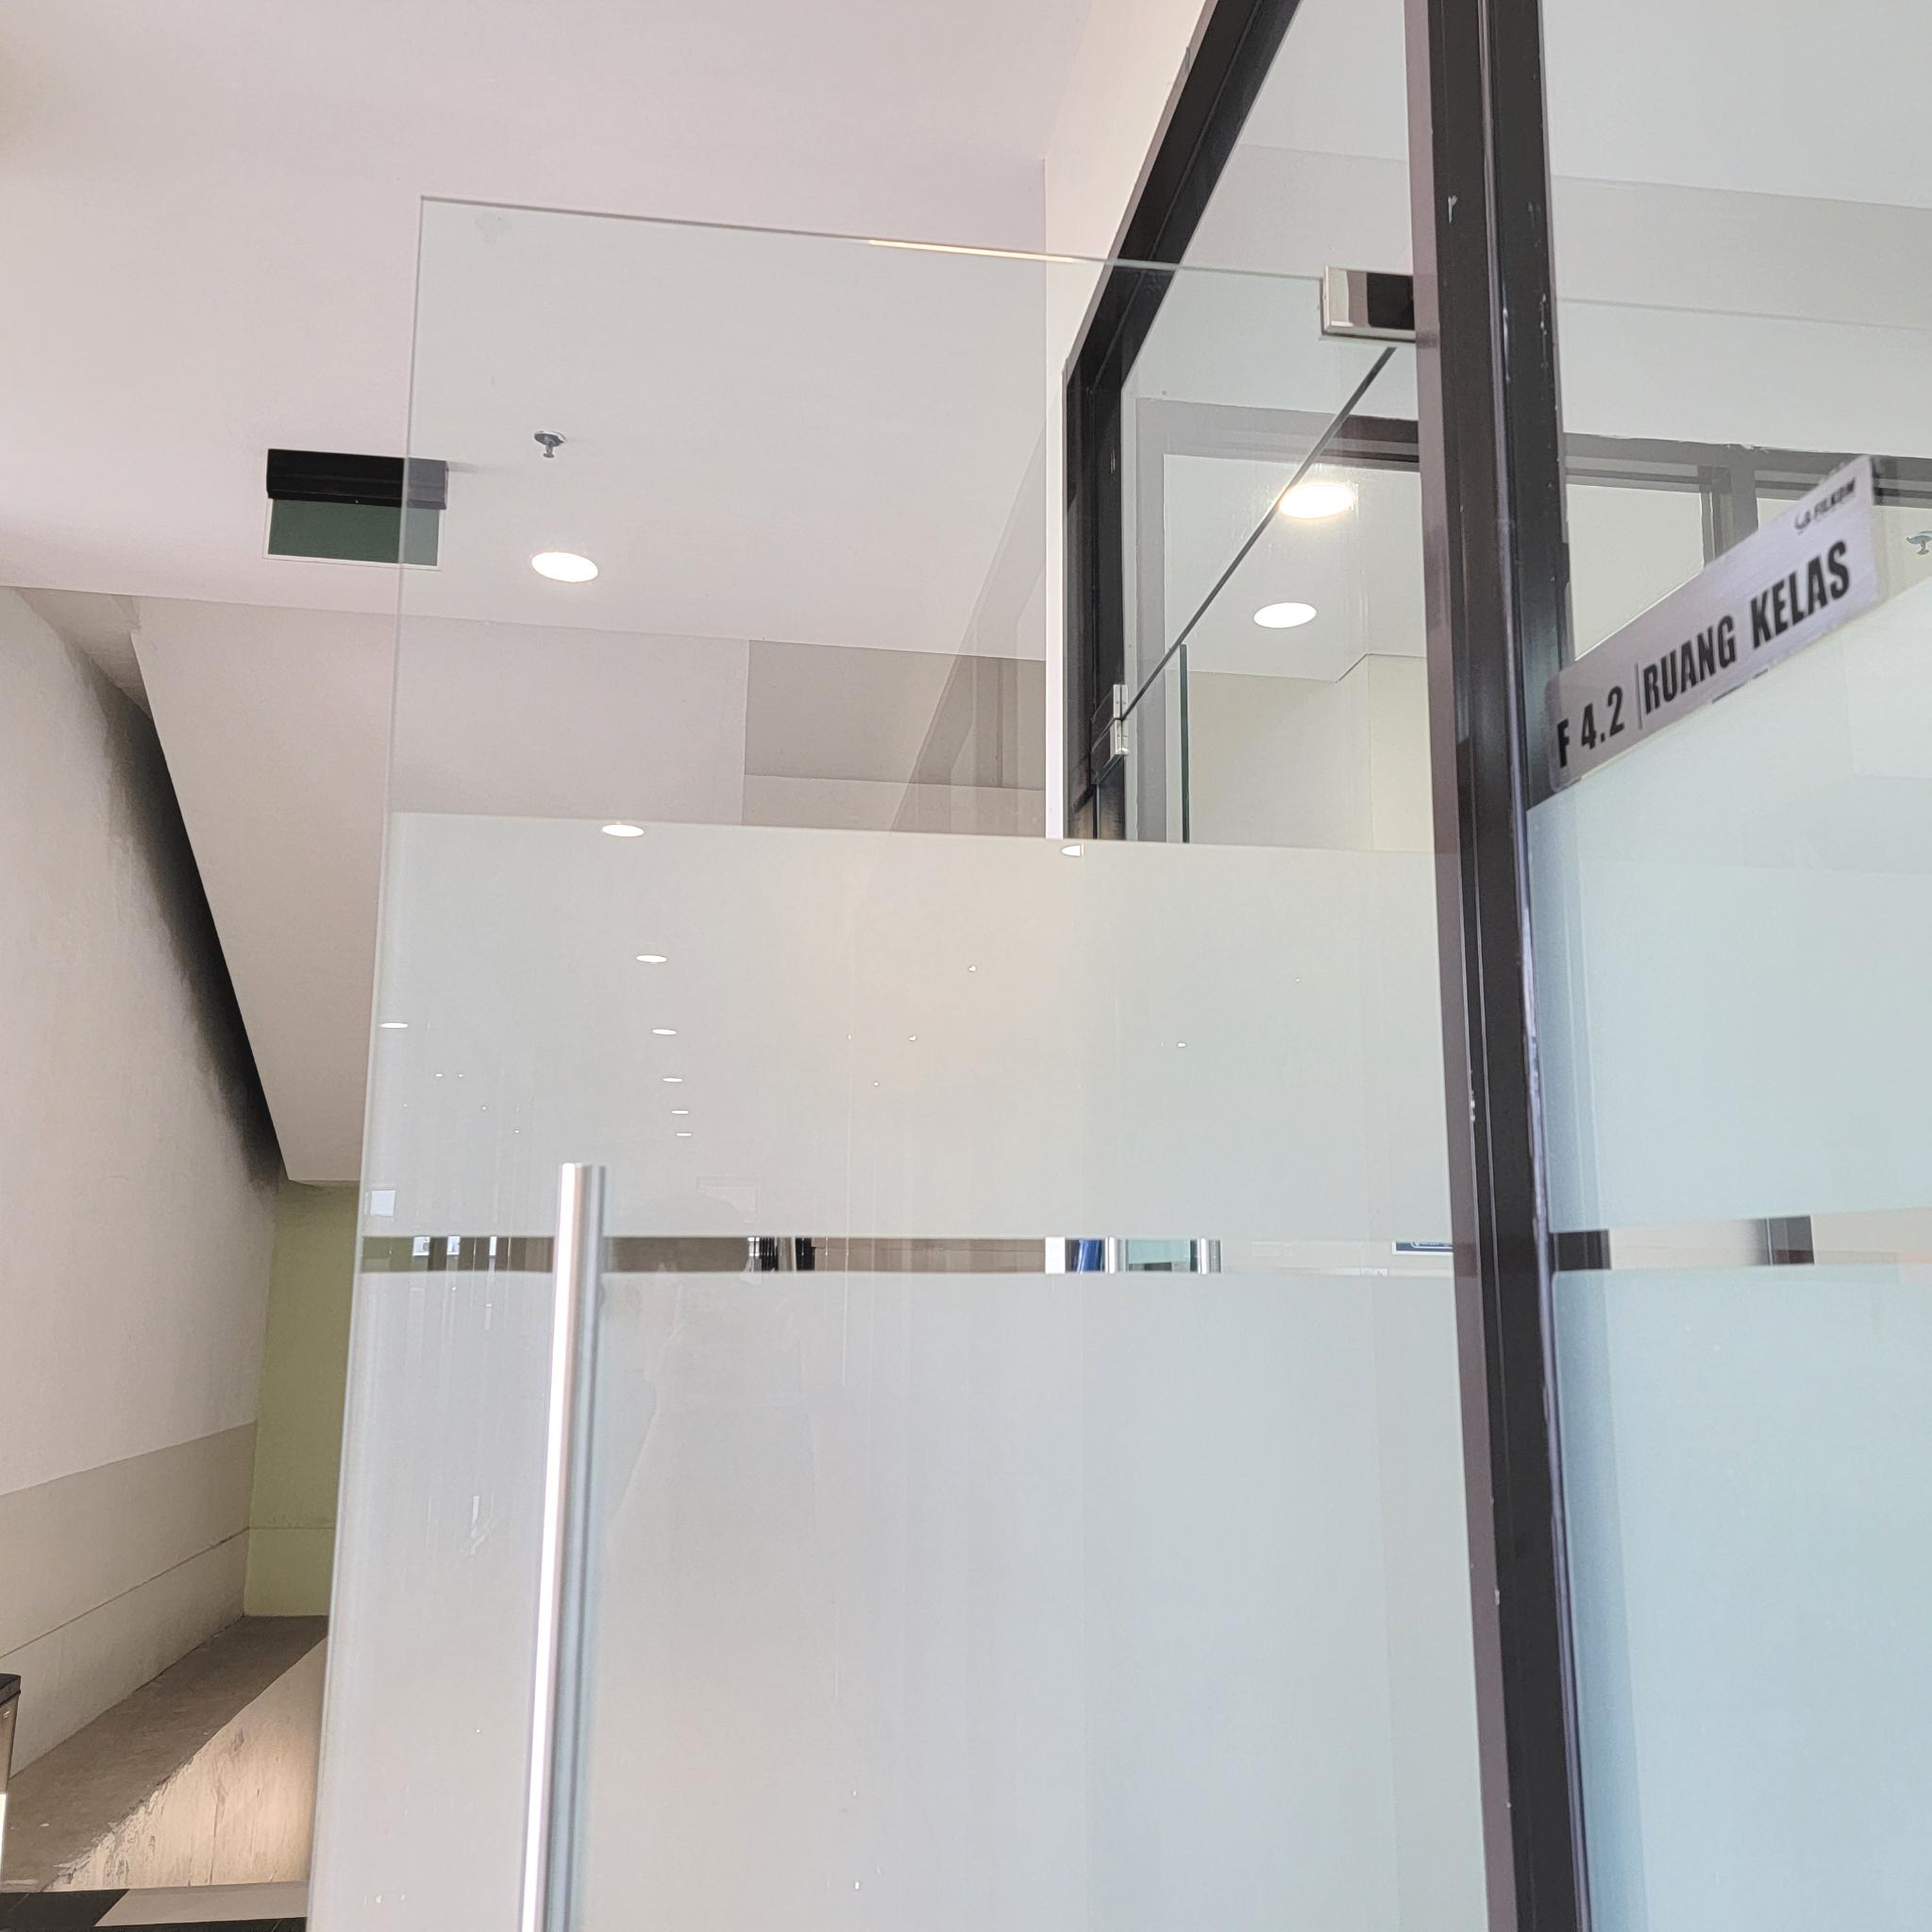plate: (1545, 451, 1879, 794)
